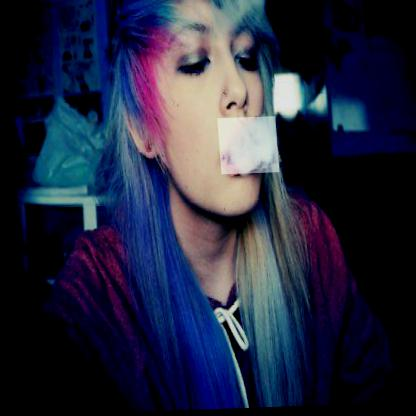smoke: (215, 118, 277, 176)
